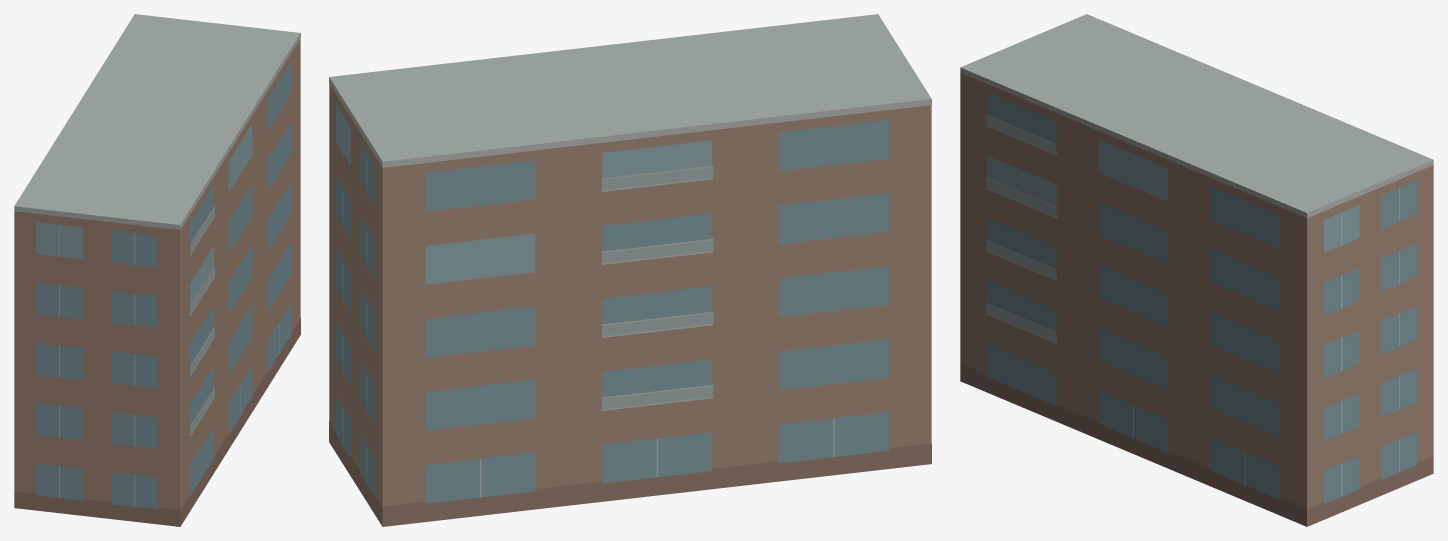
Rendered from survey-upis-32696028.glb.
The picture shows the model from 3 angles, left to right: view 1: azimuth 30°, elevation 25°; view 2: azimuth 150°, elevation 25°; view 3: azimuth 270°, elevation 25°; orthographic projection. The views are drawn at different scales.
Parts seen in each view (by area): view 1: survey-upis-32696028.tmp; view 2: survey-upis-32696028.tmp; view 3: survey-upis-32696028.tmp.
Part boxes in pixels (<box>): survey-upis-32696028.tmp: <box>14,14,300,526</box>; survey-upis-32696028.tmp: <box>329,14,931,526</box>; survey-upis-32696028.tmp: <box>960,14,1433,526</box>.
Bounding box in the file's own units: 19.8 × 14.55 × 19.9.
